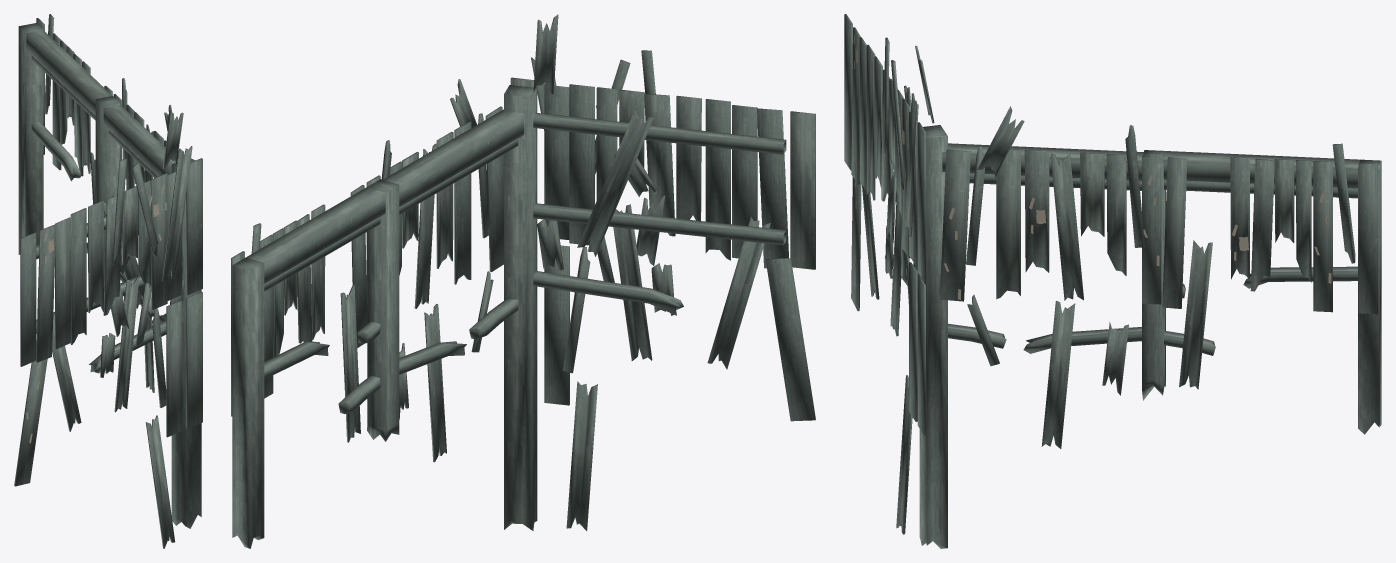
Rendered from SM_ENV_KNFRST_WoodFoundation_D.FBX.
The picture shows the model from 3 angles, left to right: view 1: azimuth 30°, elevation 25°; view 2: azimuth 150°, elevation 25°; view 3: azimuth 270°, elevation 25°; orthographic projection. The views are drawn at different scales.
Visible parts, largest first — view 1: SM_ENV_KNFRST_WoodFoundation_D; view 2: SM_ENV_KNFRST_WoodFoundation_D; view 3: SM_ENV_KNFRST_WoodFoundation_D.
Part boxes in pixels (bbox=[...]): SM_ENV_KNFRST_WoodFoundation_D: bbox=[14, 14, 202, 548]; SM_ENV_KNFRST_WoodFoundation_D: bbox=[231, 14, 815, 548]; SM_ENV_KNFRST_WoodFoundation_D: bbox=[844, 14, 1381, 548].
Bounding box in the file's own units: 1543 × 2498 × 2477.
